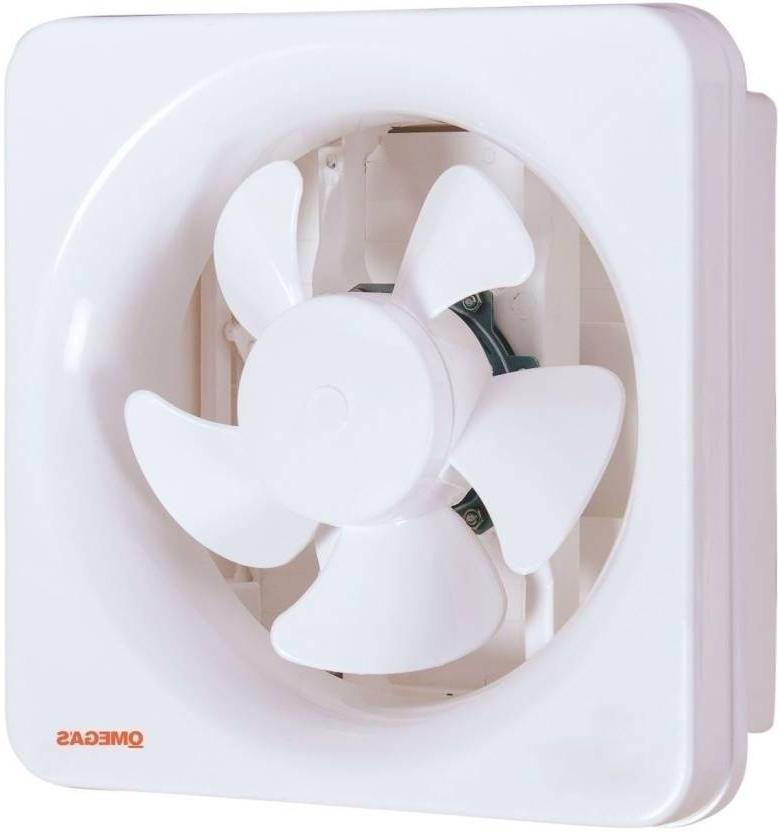fan: (41, 91, 684, 816)
